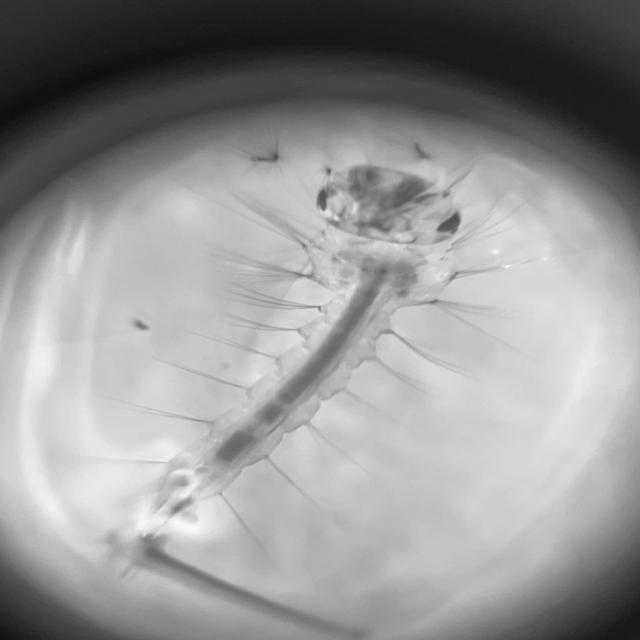larvas: (120, 162, 462, 590)
